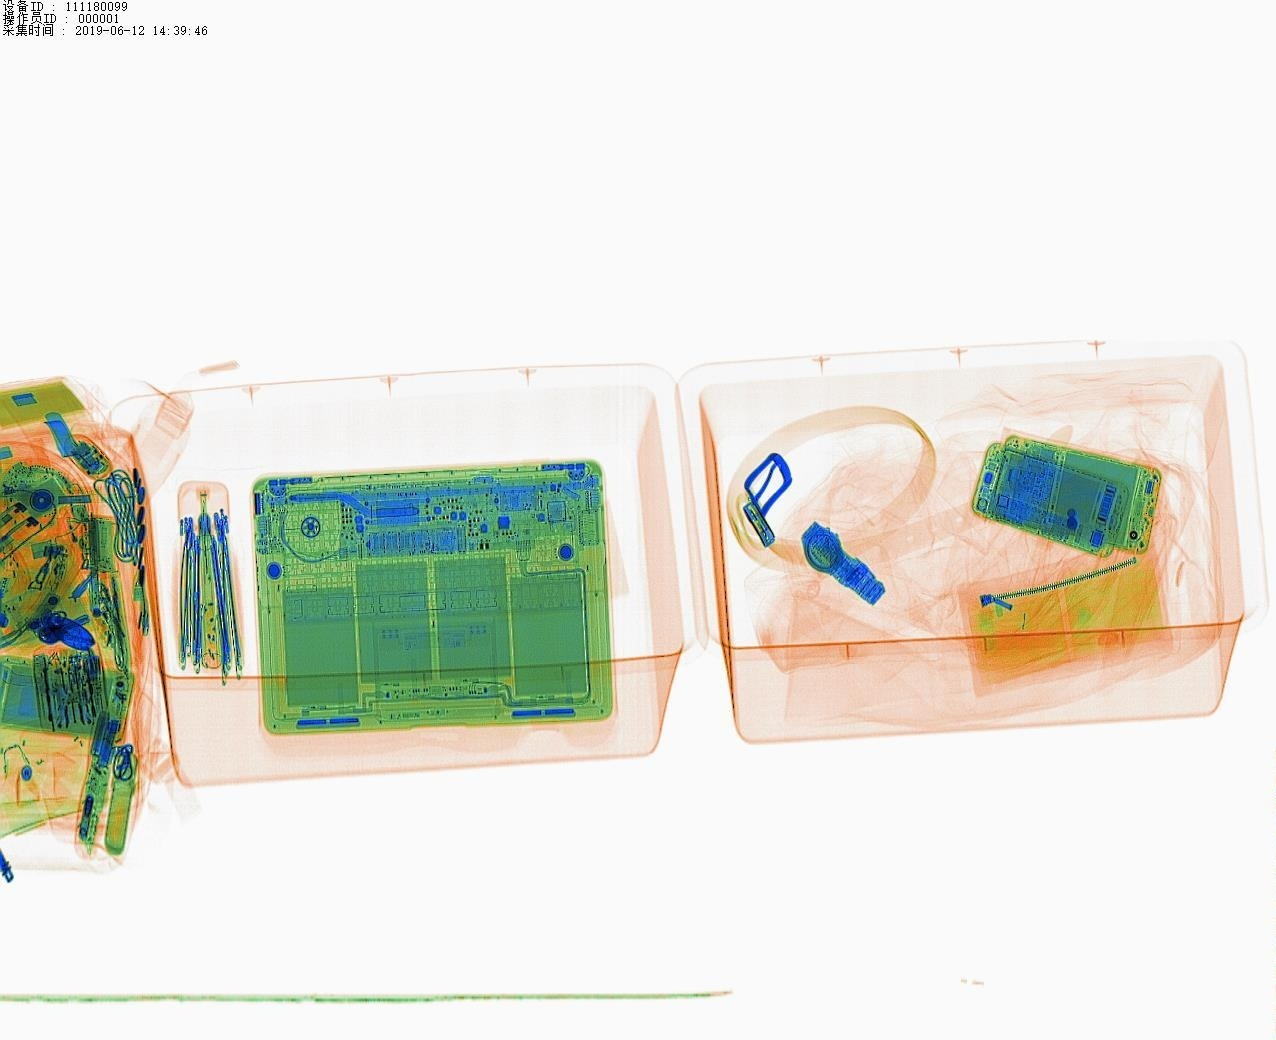NonmetallicFire: (58, 494, 104, 587)
